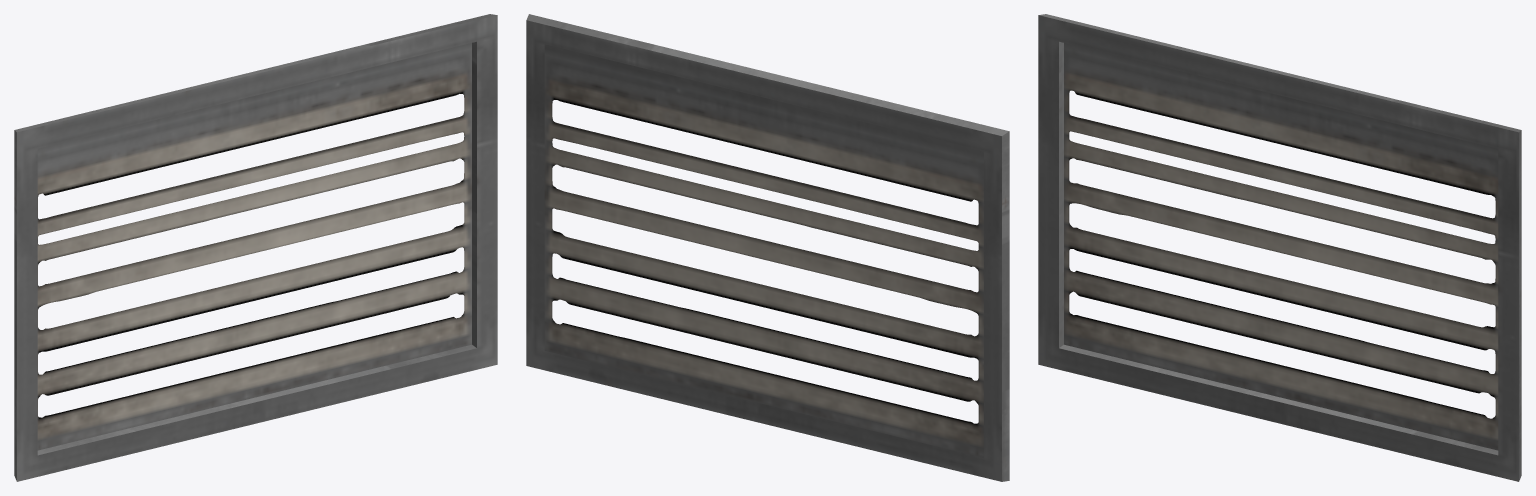
The model's file is AirductGrilledPlane.fbx.
The picture shows the model from 3 angles, left to right: view 1: azimuth 30°, elevation 25°; view 2: azimuth 150°, elevation 25°; view 3: azimuth 330°, elevation 25°; orthographic projection.
Visible parts, largest first — view 1: NewAirduct_Straight_002.001; view 2: NewAirduct_Straight_002.001; view 3: NewAirduct_Straight_002.001.
Part boxes in pixels (box(x1,y1,x2,y2)): NewAirduct_Straight_002.001: box(14, 14, 497, 481); NewAirduct_Straight_002.001: box(526, 14, 1009, 481); NewAirduct_Straight_002.001: box(1038, 14, 1521, 481).
Size of the model in its own units: 65.61 by 45.61 by 1.19.
